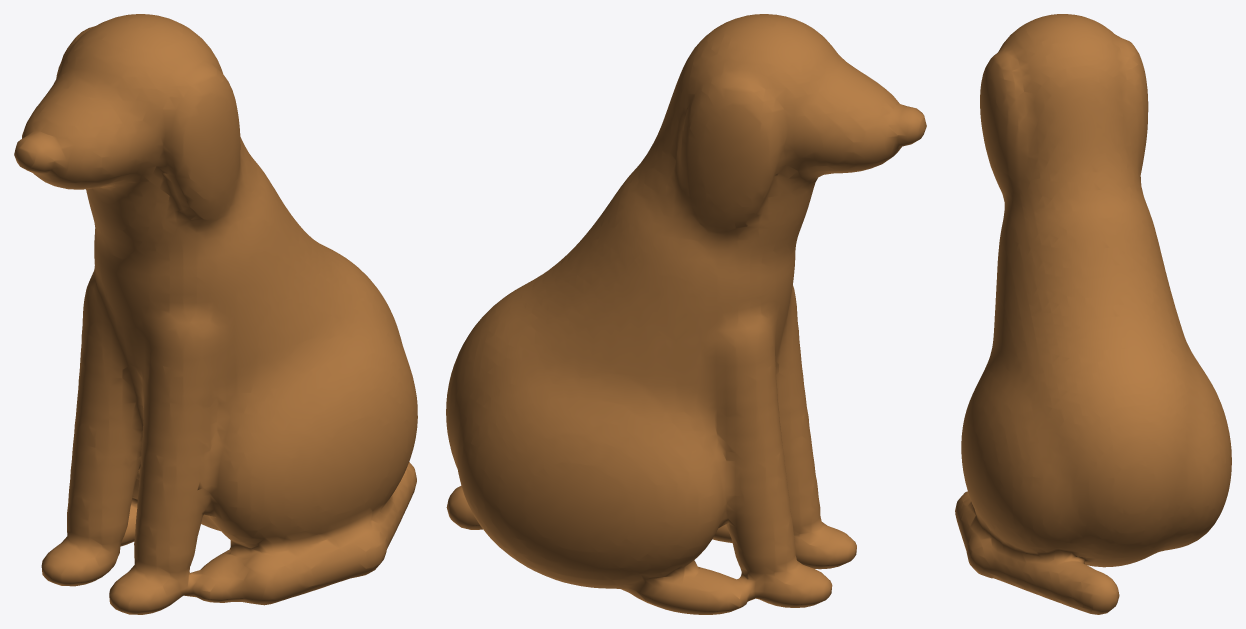
File: pet_dog.glb
3 views of the same model, side by side, from view 1: azimuth 30°, elevation 25°; view 2: azimuth 150°, elevation 25°; view 3: azimuth 270°, elevation 25° (orthographic). The views are drawn at different scales.
Parts seen in each view (by area): view 1: sculpture_dog; view 2: sculpture_dog; view 3: sculpture_dog.
Part boxes in pixels (left/top/right/bottom): sculpture_dog: left=14, top=14, right=417, bottom=614; sculpture_dog: left=446, top=14, right=926, bottom=614; sculpture_dog: left=955, top=14, right=1231, bottom=614.
Size of the model in its own units: 0.9865 by 1.21 by 0.6351.
